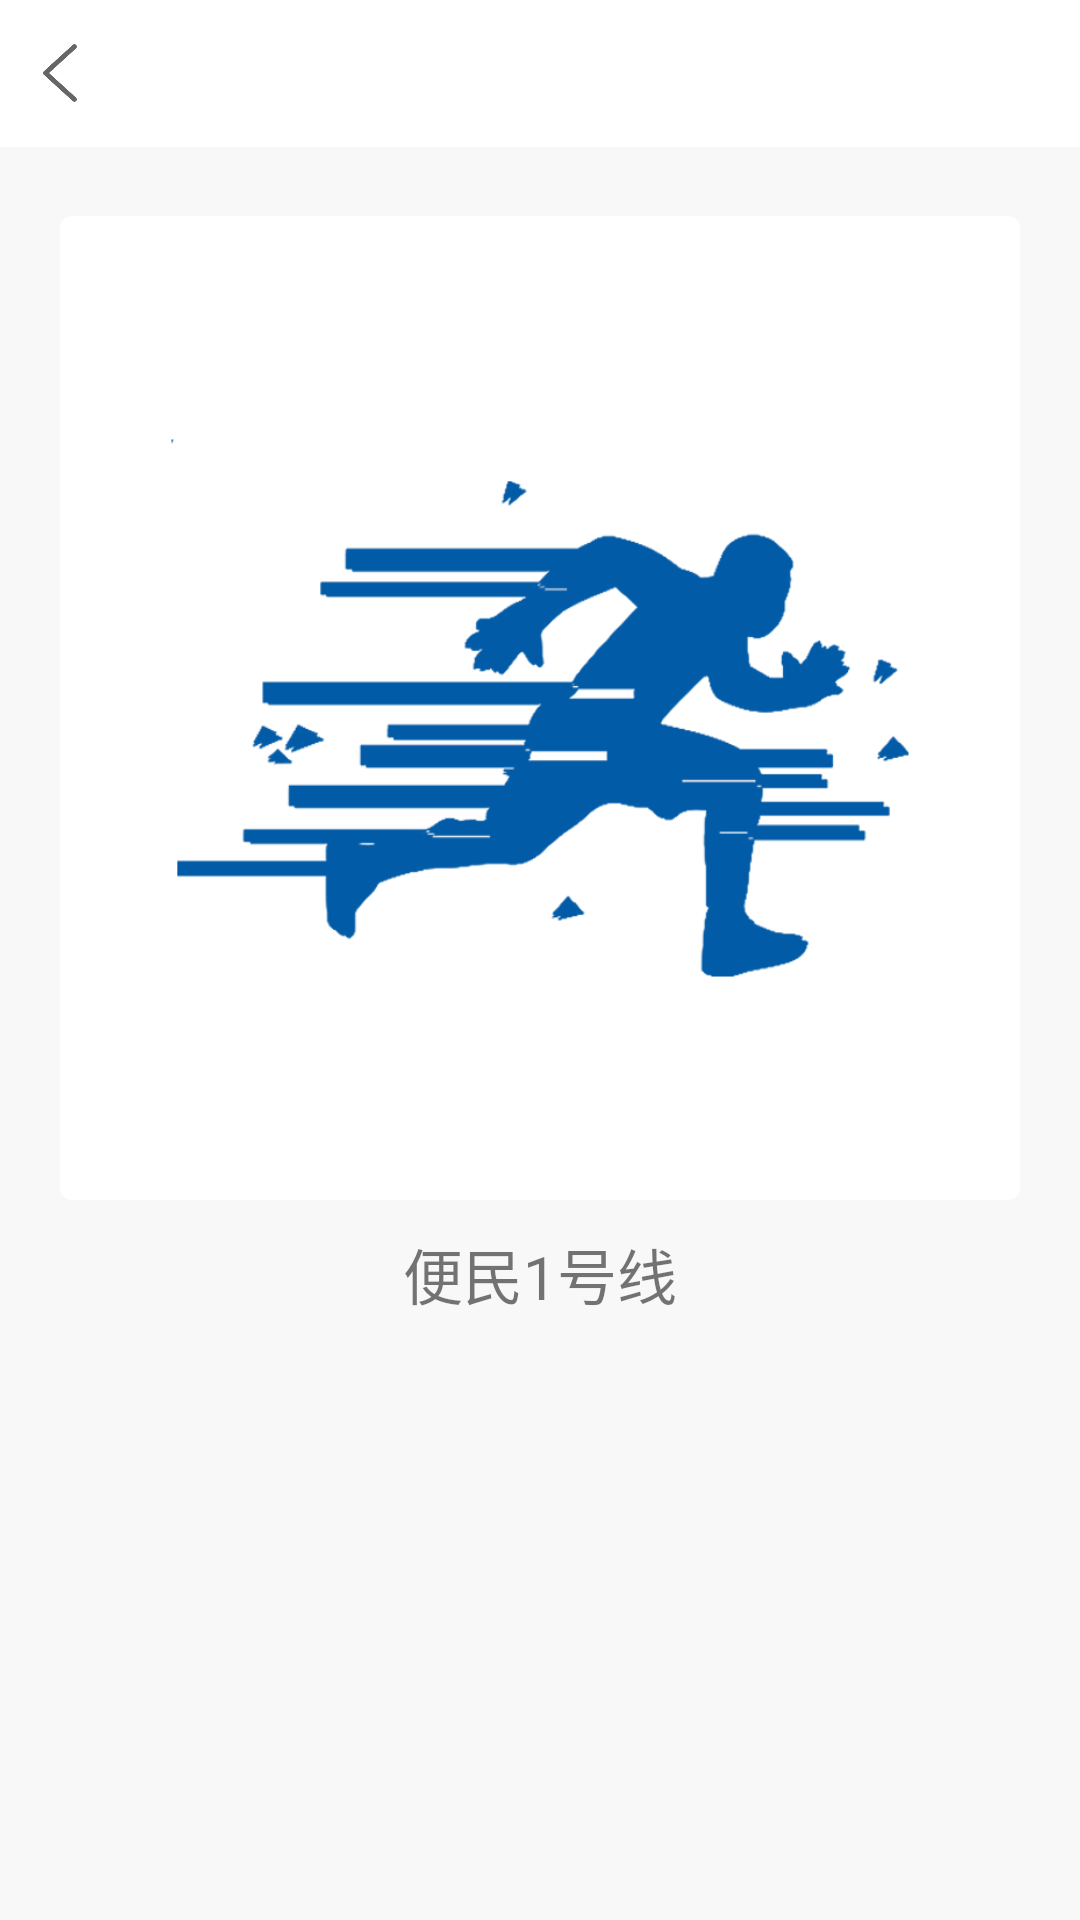

Icons on this 1080x1920 Android screen, each with the point to tap as (x,y):
back: (60,73)
